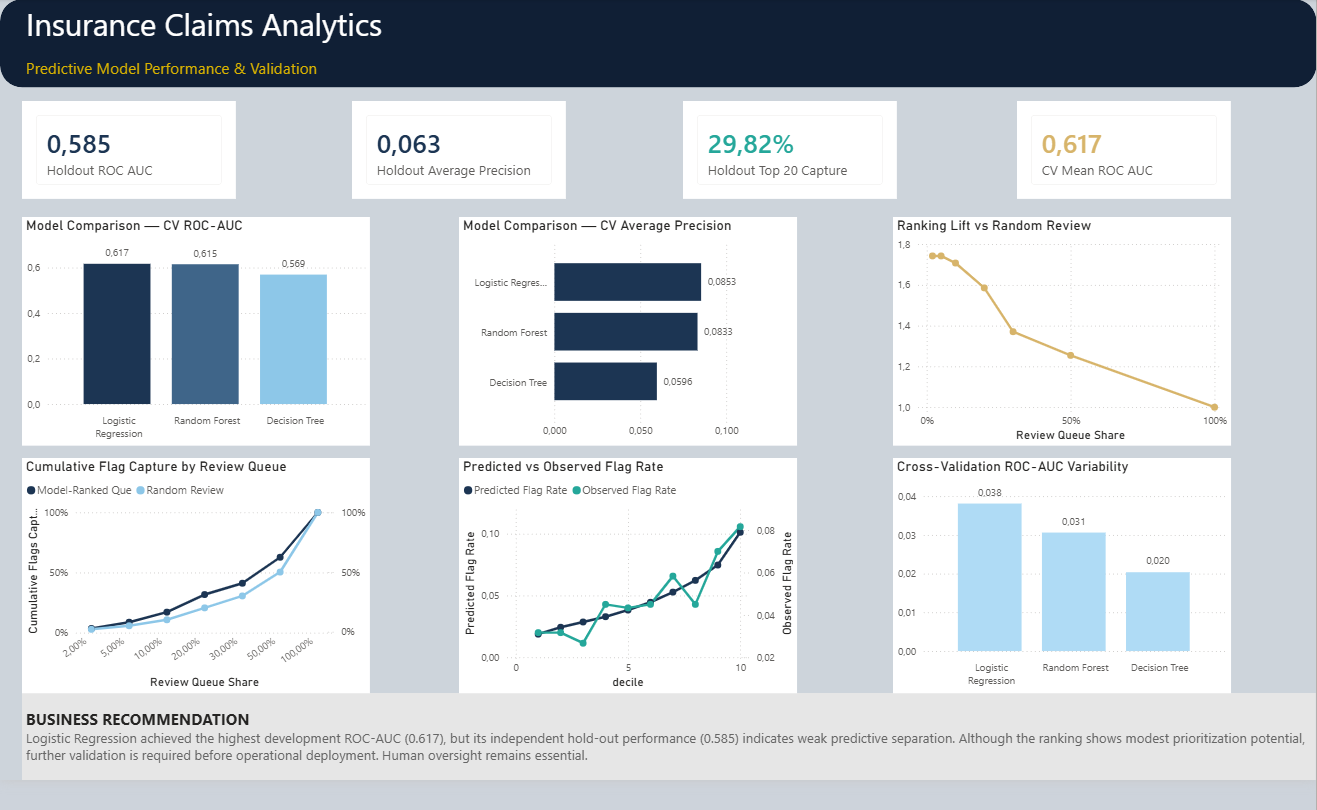

This screenshot's page, from the dashboard's own definition file:
{"tool":"powerbi","page":{"name":"Model Performance & Validation.","canvas":[1600,950],"ordinal":2},"visuals":[{"type":"group","id":"g1","title":"Group 1","box":[26.7,843.8,1573.3,105.8],"z":0},{"type":"shape","box":[26.7,843.8,1573.3,105.8],"z":0,"group":"g1"},{"type":"group","id":"g2","title":"Group 2","box":[0,0,1600.5,108.2],"z":1000},{"type":"shape","box":[0,0,1600.5,107.6],"z":1000,"group":"g2"},{"type":"textbox","box":[26.9,0,531.2,62],"z":2000,"group":"g2"},{"type":"cardVisual","fields":{"Data":["model_comparison.Holdout ROC AUC"]},"box":[26.7,124,260.2,119.1],"z":2000},{"type":"textbox","box":[26.7,65.7,519.1,42.6],"z":3000,"group":"g2"},{"type":"cardVisual","fields":{"Data":["model_comparison.Holdout Average Precision"]},"box":[428,124,260.2,119.1],"z":3000},{"type":"cardVisual","fields":{"Data":["model_comparison.Holdout Top 20 Capture"]},"box":[830.4,124,260.2,119.1],"z":4000},{"type":"cardVisual","fields":{"Data":["model_comparison.CV Mean ROC AUC"]},"box":[1236.5,124,260.2,119.1],"z":5000},{"type":"clusteredColumnChart","title":"Model Comparison — CV ROC-AUC","fields":{"Category":["cross_validation.model"],"Y":["Avg(cross_validation.roc_auc_mean)"]},"box":[26.7,265,423.1,278.4],"z":6000},{"type":"clusteredBarChart","title":"Model Comparison — CV Average Precision","fields":{"Category":["cross_validation.model"],"Y":["Sum(cross_validation.average_precision_mean)"]},"box":[558.1,265,410.9,278.4],"z":7000},{"type":"lineChart","title":"Cumulative Flag Capture by Review Queue","fields":{"Category":["lift_table.queue_share"],"Y":["Avg(lift_table.share_of_flags_found)"],"Y2":["Avg(lift_table.Random Capture Baseline)"]},"box":[26.7,558.1,423.1,285.7],"z":8000},{"type":"clusteredColumnChart","title":"Cross-Validation ROC-AUC Variability","fields":{"Category":["cross_validation.model"],"Y":["Sum(cross_validation.roc_auc_std)"]},"box":[1085.7,558.1,410.9,285.7],"z":9000},{"type":"lineChart","title":"Ranking Lift vs Random Review","fields":{"Category":["lift_table.queue_share"],"Y":["lift_table.Ranking Lift"]},"box":[1085.7,265,410.9,278.4],"z":10000},{"type":"lineChart","title":"Predicted vs Observed Flag Rate","fields":{"Category":["decile_calibration.decile"],"Y":["Sum(decile_calibration.mean_predicted)"],"Y2":["Sum(decile_calibration.observed_flag_rate)"]},"box":[558.1,558.1,410.9,285.7],"z":11000},{"type":"textbox","box":[26.7,857.2,1573.3,79],"z":19000,"group":"g1"}]}

Visuals, with their boxes on the page's 1600x950 design canvas (x1, y1, x2, y2). These are canvas units, not pixel positions in the 1317x810 screenshot, which may show the page scaled, cropped or inside an application window:
"Group 1" group: 27/844/1600/950
shape: 27/844/1600/950
"Group 2" group: 0/0/1600/108
shape: 0/0/1600/108
textbox: 27/0/558/62
cardVisual - model_comparison.Holdout ROC AUC: 27/124/287/243
textbox: 27/66/546/108
cardVisual - model_comparison.Holdout Average Precision: 428/124/688/243
cardVisual - model_comparison.Holdout Top 20 Capture: 830/124/1091/243
cardVisual - model_comparison.CV Mean ROC AUC: 1236/124/1497/243
"Model Comparison — CV ROC-AUC" clusteredColumnChart: 27/265/450/543
"Model Comparison — CV Average Precision" clusteredBarChart: 558/265/969/543
"Cumulative Flag Capture by Review Queue" lineChart: 27/558/450/844
"Cross-Validation ROC-AUC Variability" clusteredColumnChart: 1086/558/1497/844
"Ranking Lift vs Random Review" lineChart: 1086/265/1497/543
"Predicted vs Observed Flag Rate" lineChart: 558/558/969/844
textbox: 27/857/1600/936
